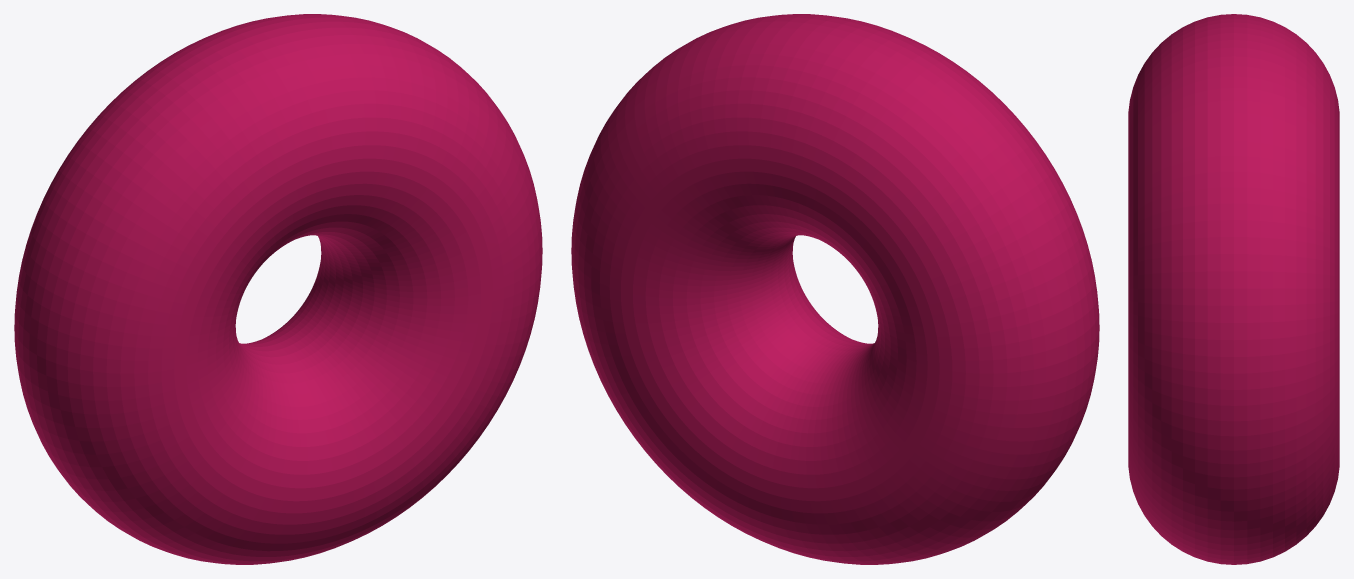
The picture shows the model from 3 angles, left to right: view 1: azimuth 30°, elevation 25°; view 2: azimuth 150°, elevation 25°; view 3: azimuth 270°, elevation 25°; orthographic projection. The views are drawn at different scales.
Parts seen in each view (by area): view 1: world; view 2: world; view 3: world.
Part boxes in pixels (bbox=[...]): world: bbox=[14, 14, 542, 564]; world: bbox=[571, 14, 1099, 564]; world: bbox=[1128, 14, 1339, 564].
Size of the model in its own units: 26 by 26 by 9.98.
